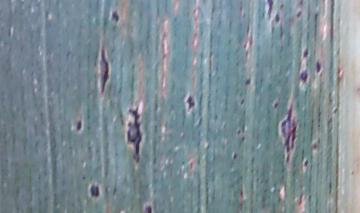tarspot: (279, 103, 300, 169), (123, 104, 146, 163), (97, 47, 111, 95), (88, 183, 101, 201), (264, 1, 275, 22), (184, 94, 197, 111), (109, 8, 122, 24), (312, 59, 323, 76), (297, 69, 310, 83), (73, 118, 84, 133), (141, 202, 155, 213), (243, 74, 251, 90), (300, 157, 312, 167), (302, 47, 311, 60), (271, 96, 280, 109), (230, 151, 239, 163), (275, 12, 282, 25)
